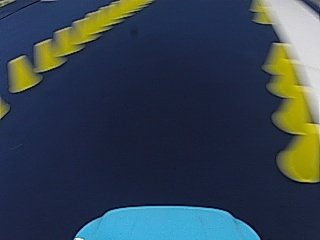cone: (276, 128, 319, 182), (271, 83, 316, 132), (265, 47, 301, 97), (7, 54, 39, 92), (261, 42, 295, 77), (32, 39, 63, 71), (51, 25, 80, 56)
